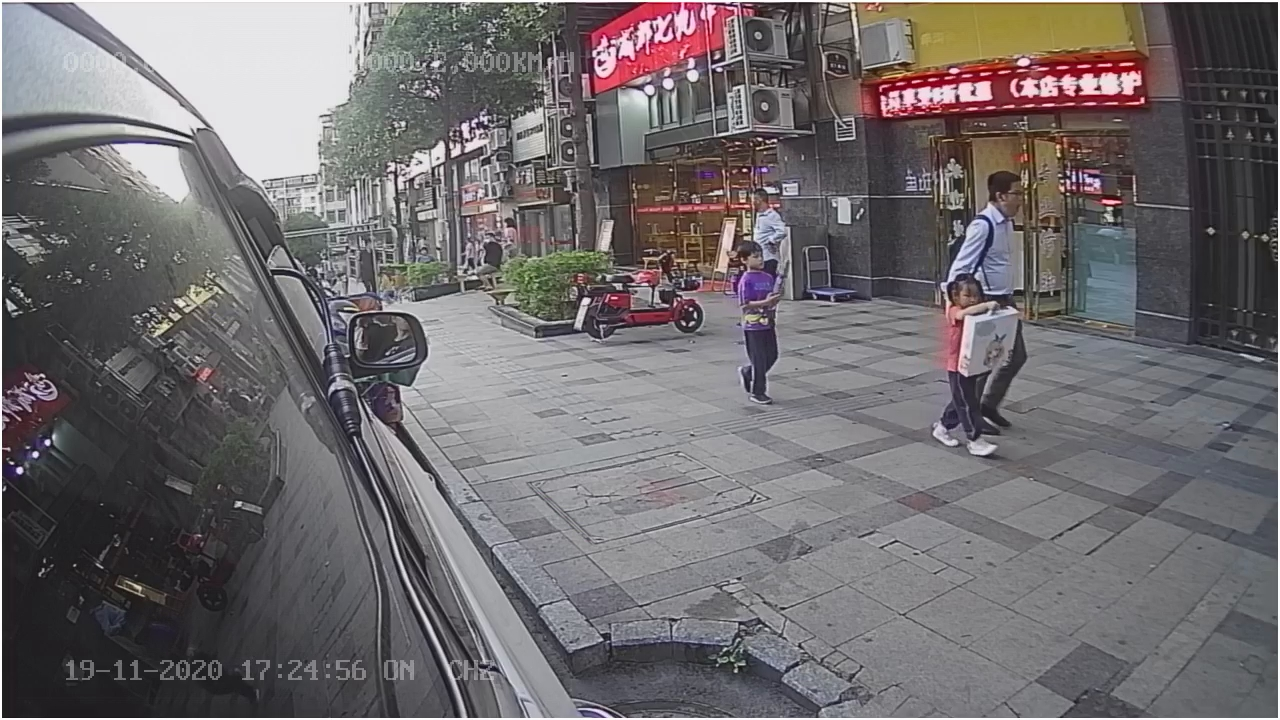person: (725, 238, 786, 409), (959, 167, 1028, 281)
